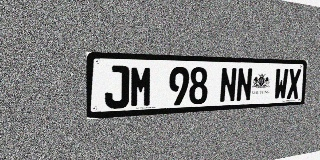8: (189, 67, 208, 105)
9: (169, 66, 189, 106)
J: (105, 65, 129, 109)
M: (130, 66, 153, 108)
N: (219, 67, 237, 103), (236, 68, 253, 102)
W: (273, 68, 289, 100)
X: (287, 69, 301, 99)
